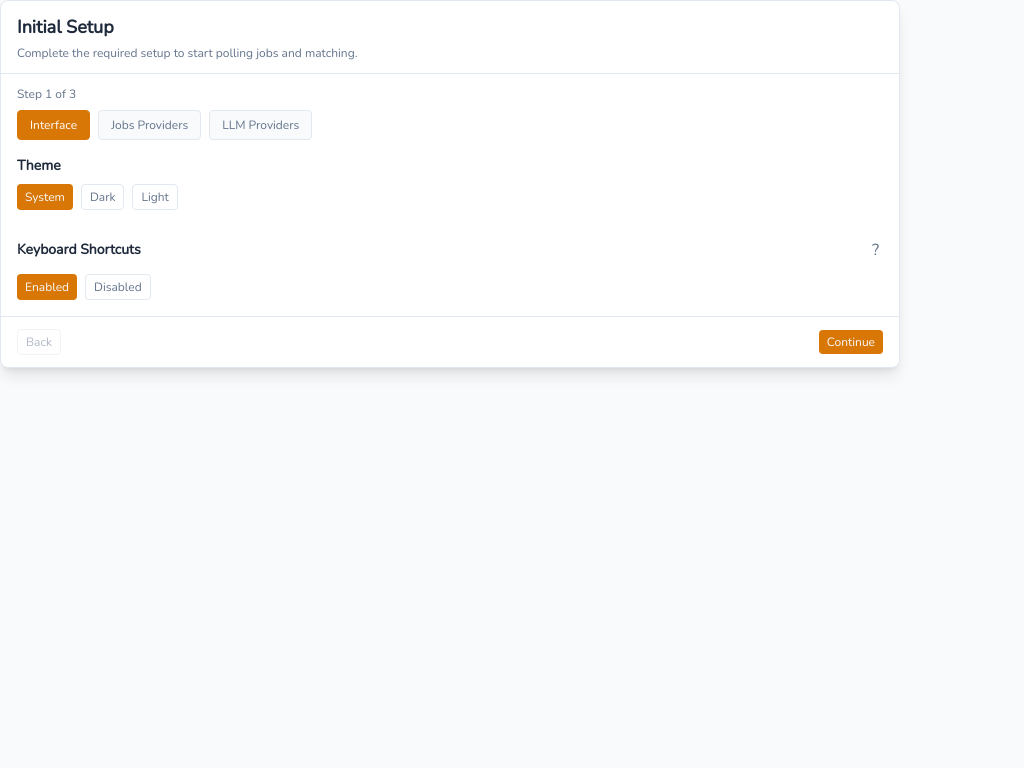
Test: SettingsPanel › renders wizard mode with step controls and no close button
Check: the dialog named "Initial setup wizard" is shown, box [0,0,900,368]
Check: the text "Step 1 of 3" is shown, box [17,86,76,102]
Click the button "Continue" at (851, 342), box [819,330,883,354]
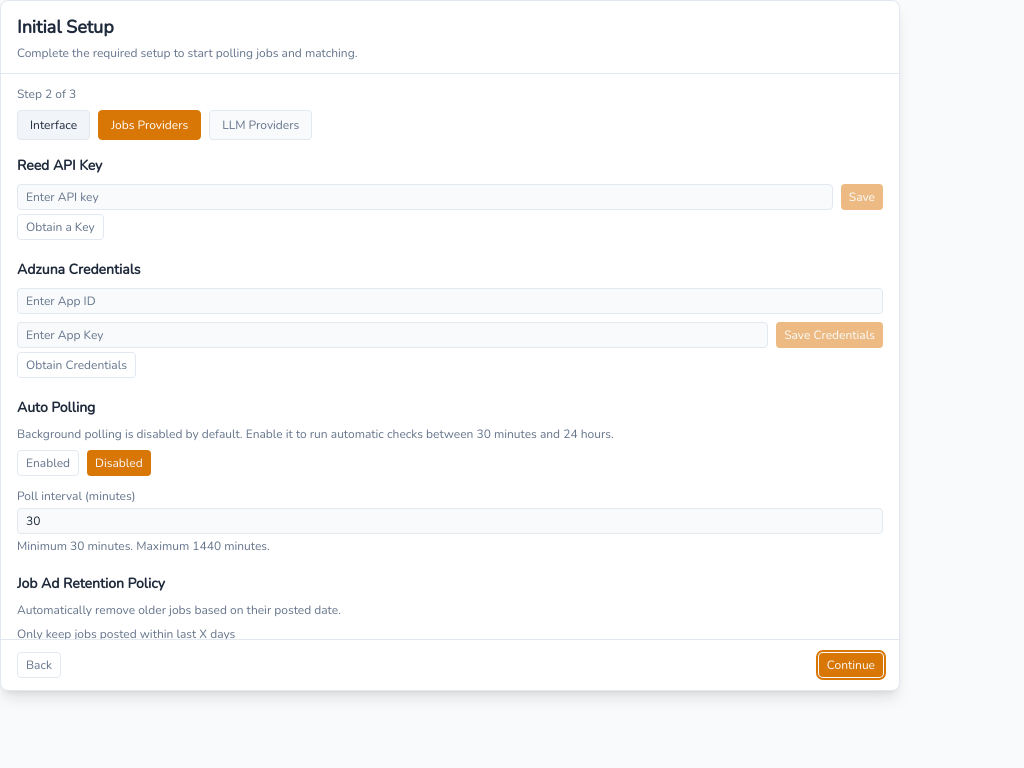
Check: the password field named "Reed API Key" is shown, box [17,184,833,210]
